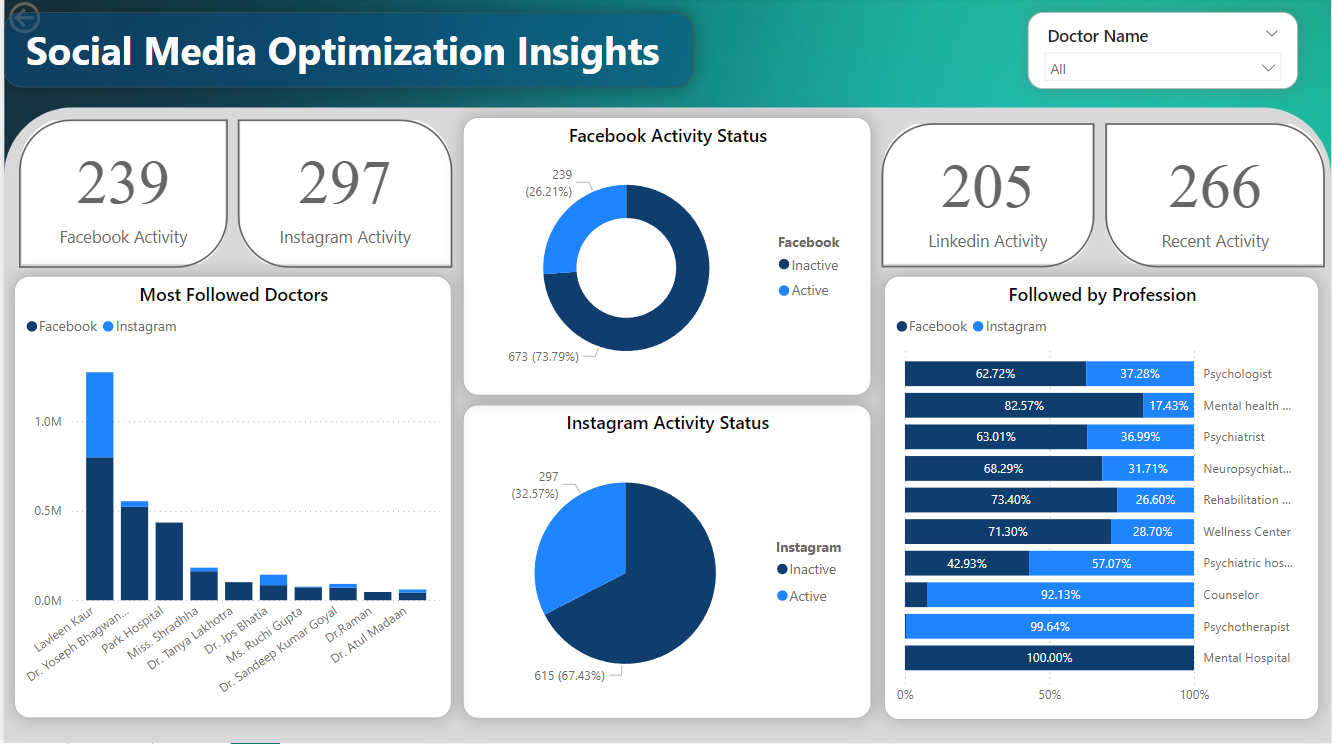

Layout of this report page (visuals, bound fields, positions):
{"tool":"powerbi","page":{"name":"SMO","canvas":[1280,720],"ordinal":1},"visuals":[{"type":"cardVisual","fields":{"Data":["CountNonNull(Final_Data.IG Active/Inactive)"]},"box":[221.2,111.2,217.5,157.5],"z":0},{"type":"cardVisual","fields":{"Data":["CountNonNull(Final_Data.FB Active/Inactive)"]},"box":[10,111.2,211.2,157.5],"z":1000},{"type":"pieChart","title":"Instagram Activity Status","fields":{"Category":["Final_Data.IG Active/Inactive"],"Y":["CountNonNull(Final_Data.Name)"]},"box":[442.9,392.9,394.3,302.9],"z":2000},{"type":"donutChart","title":"Facebook Activity Status","fields":{"Category":["Final_Data.FB Active/Inactive"],"Y":["CountNonNull(Final_Data.Name)"]},"box":[442.9,115.7,394.3,268.6],"z":3000},{"type":"hundredPercentStackedBarChart","title":"Followed by Profession","fields":{"Category":["Final_Data.Profession"],"Y":["Max(Final_Data.FB Followers)","Max(Final_Data.IG Followers)"]},"box":[848.8,268.8,420,428.8],"z":4000},{"type":"cardVisual","fields":{"Data":["Count(Final_Data.Linkedin Link)"]},"box":[842.5,115,215,153.8],"z":5000},{"type":"cardVisual","fields":{"Data":["Final_Data.Recent_Post_Count"]},"box":[1057.5,115,222.5,153.8],"z":6000},{"type":"actionButton","box":[0,0,100,40],"z":7000},{"type":"columnChart","title":"Most Followed Doctors","fields":{"Category":["Final_Data.Name"],"Y":["Sum(Final_Data.FB Followers)","Sum(Final_Data.IG Followers)"]},"box":[10,268.8,422.5,427.5],"z":8000},{"type":"textbox","box":[0,15,665,72.5],"z":9000},{"type":"slicer","fields":{"Values":["Final_Data.Name"]},"box":[988.1,14.5,260.6,74.8],"z":10001}]}

Visuals, with their boxes in screenshot pixels (x1, y1, x2, y2), scaled from the page's 1280x720 canvas onto the 1332x744 screenshot:
cardVisual - CountNonNull(Final_Data.IG Active/Inactive): [230, 115, 457, 278]
cardVisual - CountNonNull(Final_Data.FB Active/Inactive): [10, 115, 230, 278]
"Instagram Activity Status" pieChart: [461, 406, 871, 719]
"Facebook Activity Status" donutChart: [461, 120, 871, 397]
"Followed by Profession" hundredPercentStackedBarChart: [883, 278, 1320, 721]
cardVisual - Count(Final_Data.Linkedin Link): [877, 119, 1100, 278]
cardVisual - Final_Data.Recent_Post_Count: [1100, 119, 1331, 278]
actionButton: [0, 0, 104, 41]
"Most Followed Doctors" columnChart: [10, 278, 450, 720]
textbox: [0, 16, 692, 90]
slicer - Final_Data.Name: [1028, 15, 1299, 92]
